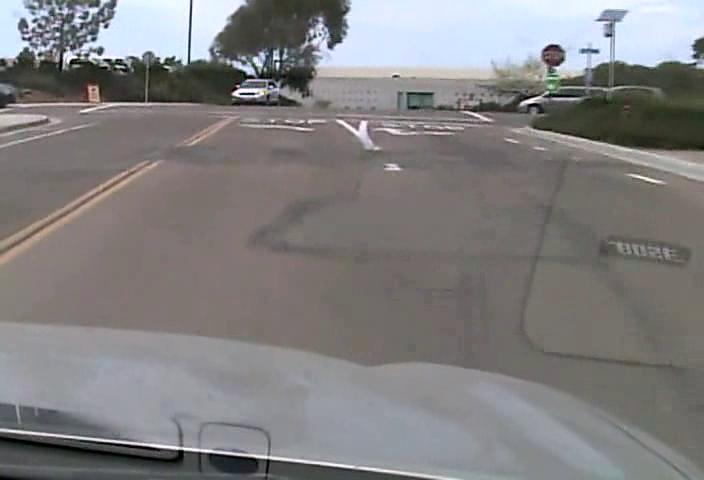stop: (540, 43, 567, 68)
